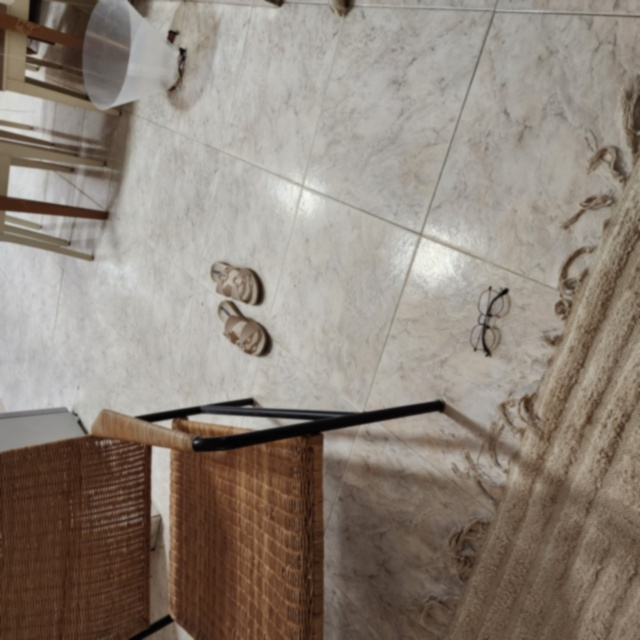glasses: (469, 284, 511, 359)
